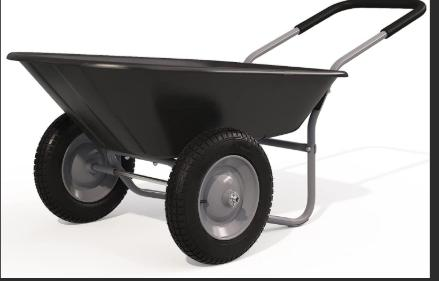BROUETTE: (0, 2, 430, 274)
